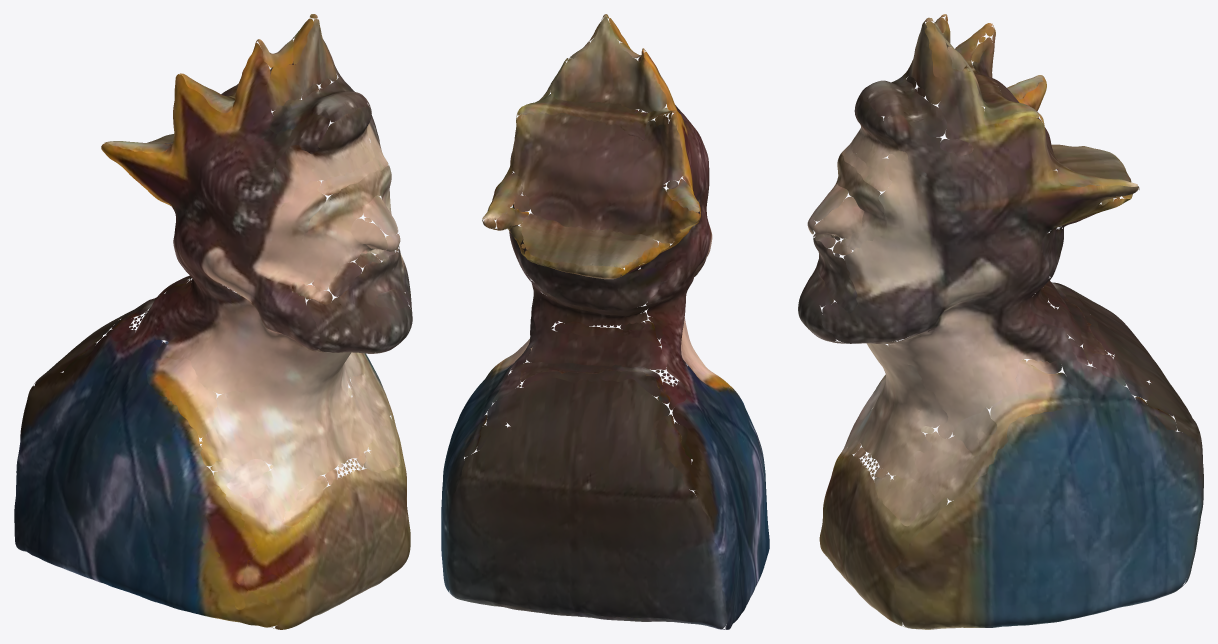
Rendered from cadmus.glb.
The picture shows the model from 3 angles, left to right: view 1: azimuth 30°, elevation 25°; view 2: azimuth 150°, elevation 25°; view 3: azimuth 270°, elevation 25°; orthographic projection. The views are drawn at different scales.
Visible parts, largest first — view 1: cadmus_Figurehead; view 2: cadmus_Figurehead; view 3: cadmus_Figurehead.
Part boxes in pixels (x1=…): cadmus_Figurehead: x1=14, y1=14, x2=412, y2=629; cadmus_Figurehead: x1=441, y1=14, x2=769, y2=629; cadmus_Figurehead: x1=798, y1=14, x2=1203, y2=629.
Size of the model in its own units: 1.49 by 2.5 by 1.59.
1 material, 1 textured.
